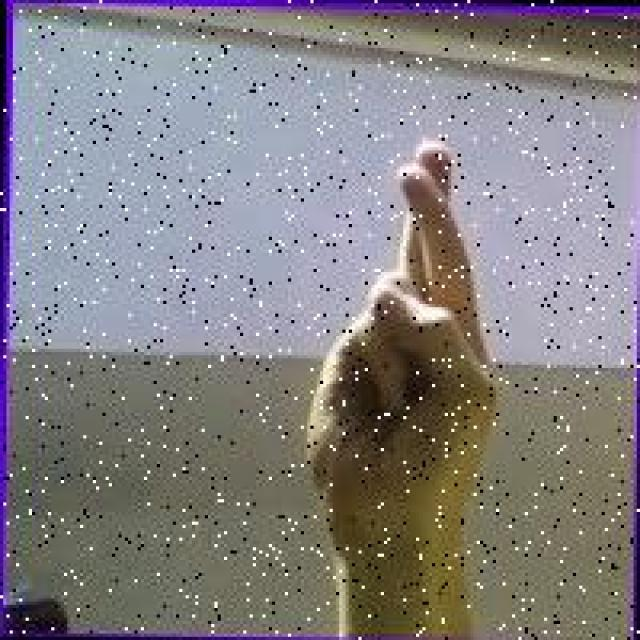R: (296, 130, 507, 568)
